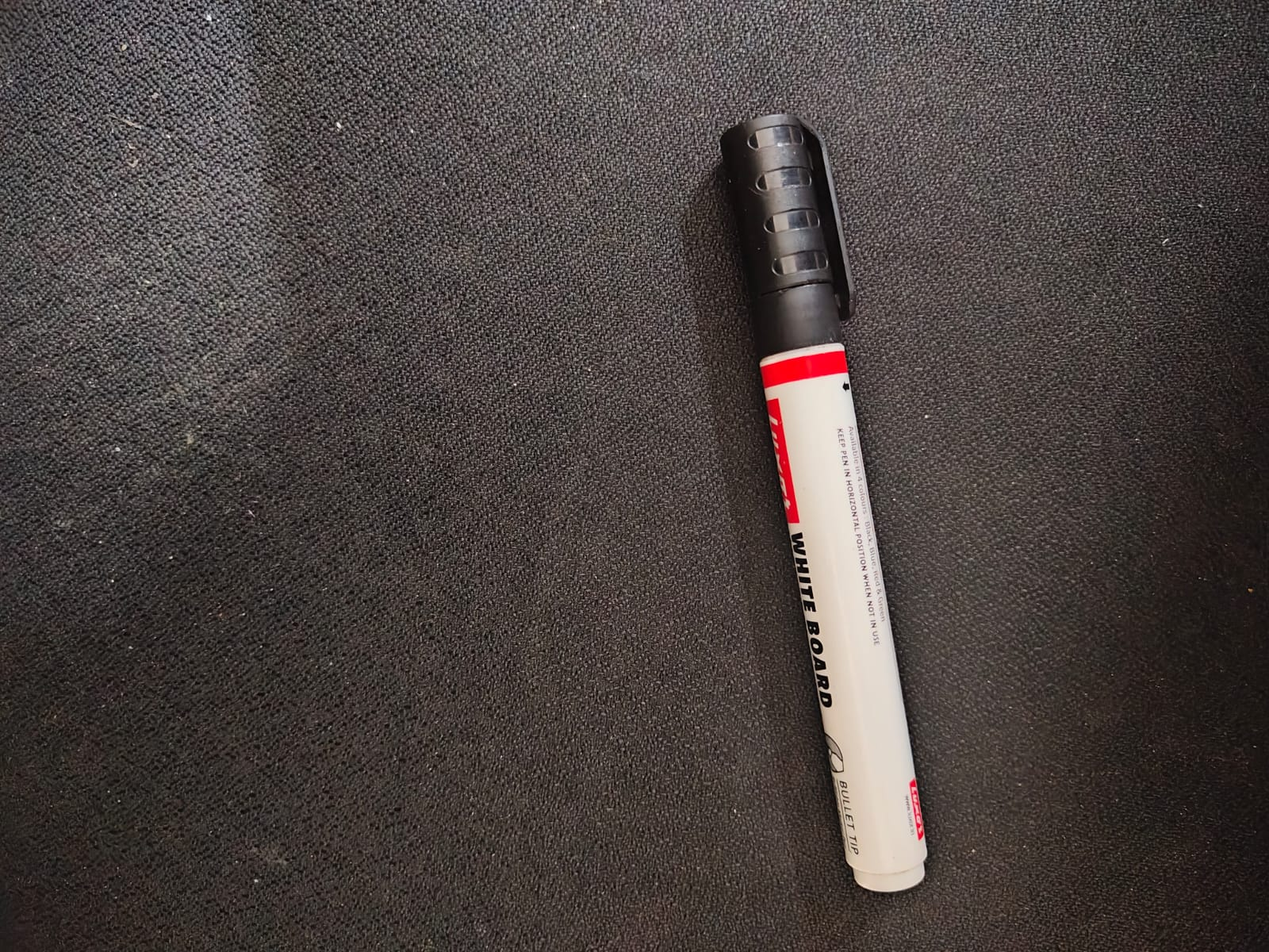case: (703, 81, 996, 925)
